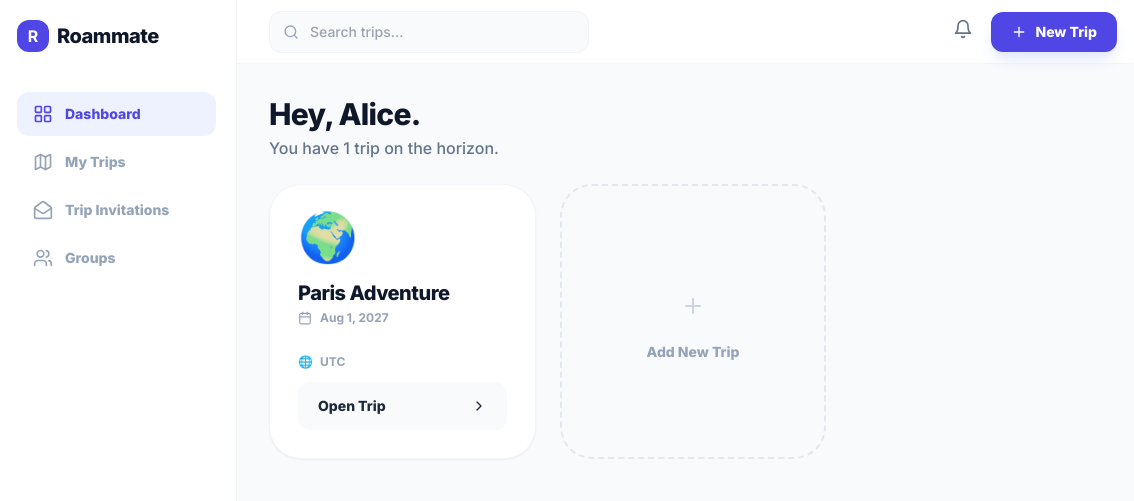
Test case: DashboardPage — section navigation › switches to Invitations section on nav click
Expected: the heading "Paris Adventure" is shown, left=298, top=281, right=450, bottom=306
Click the button "Trip Invitations" at (116,210), box left=17, top=188, right=216, bottom=232
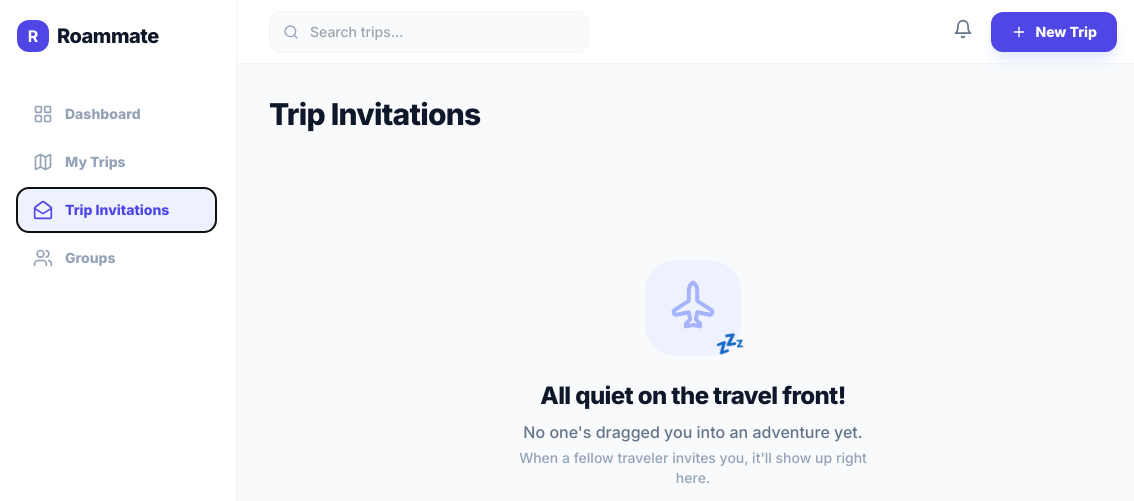
Now the heading "Trip Invitations" is shown, box left=269, top=96, right=480, bottom=132
Now the heading "All quiet on the travel front!" is shown, box left=540, top=380, right=846, bottom=412
